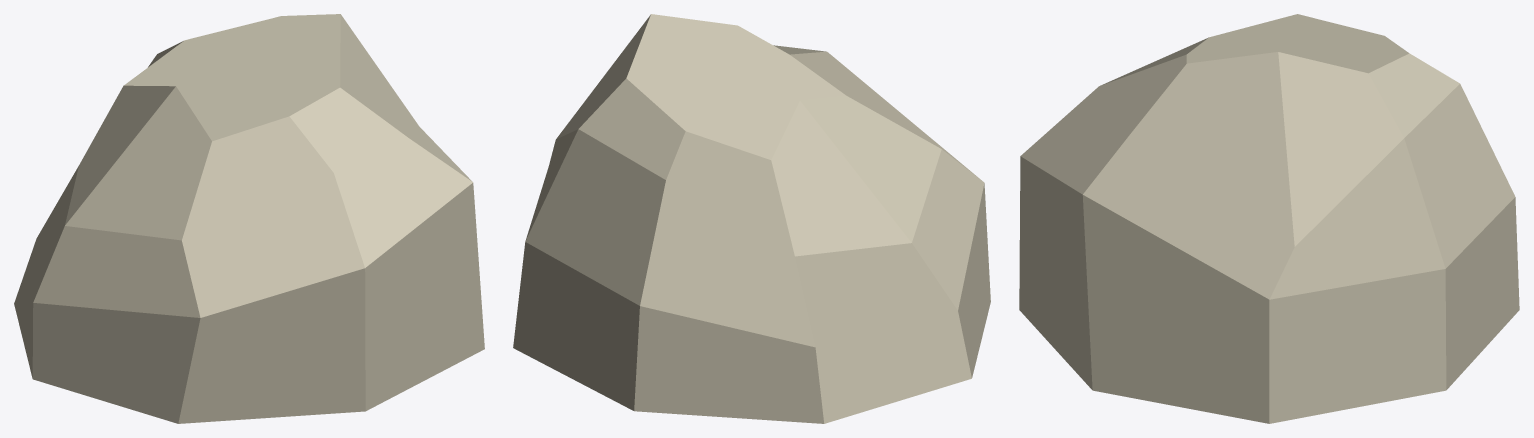
The model's file is Rock_14.fbx.
The picture shows the model from 3 angles, left to right: view 1: azimuth 30°, elevation 25°; view 2: azimuth 150°, elevation 25°; view 3: azimuth 270°, elevation 25°; orthographic projection. The views are drawn at different scales.
Visible parts, largest first — view 1: pSphere16; view 2: pSphere16; view 3: pSphere16.
Part boxes in pixels (bbox=[...]): pSphere16: bbox=[14, 14, 484, 423]; pSphere16: bbox=[513, 14, 990, 423]; pSphere16: bbox=[1019, 14, 1519, 423].
Bounding box in the file's own units: 7.01 × 4.42 × 6.51.
